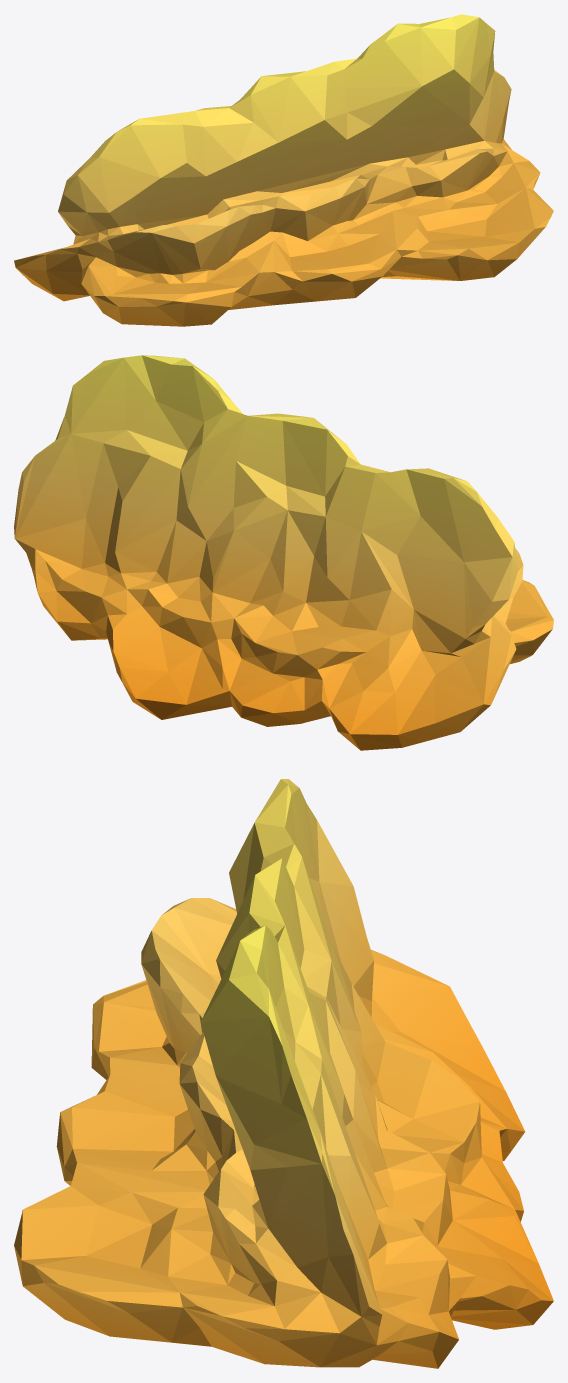
File: SM_Coral_33.fbx
The picture shows the model from 3 angles, top to bottom: view 1: azimuth 30°, elevation 25°; view 2: azimuth 150°, elevation 25°; view 3: azimuth 270°, elevation 25°; orthographic projection. The views are drawn at different scales.
Parts seen in each view (by area): view 1: Coral_33; view 2: Coral_33; view 3: Coral_33.
Part boxes in pixels (x1,y1,x2,y2): Coral_33: [14, 14, 553, 326]; Coral_33: [14, 355, 553, 750]; Coral_33: [14, 779, 553, 1368].
Size of the model in its own units: 505 by 271 by 302.
